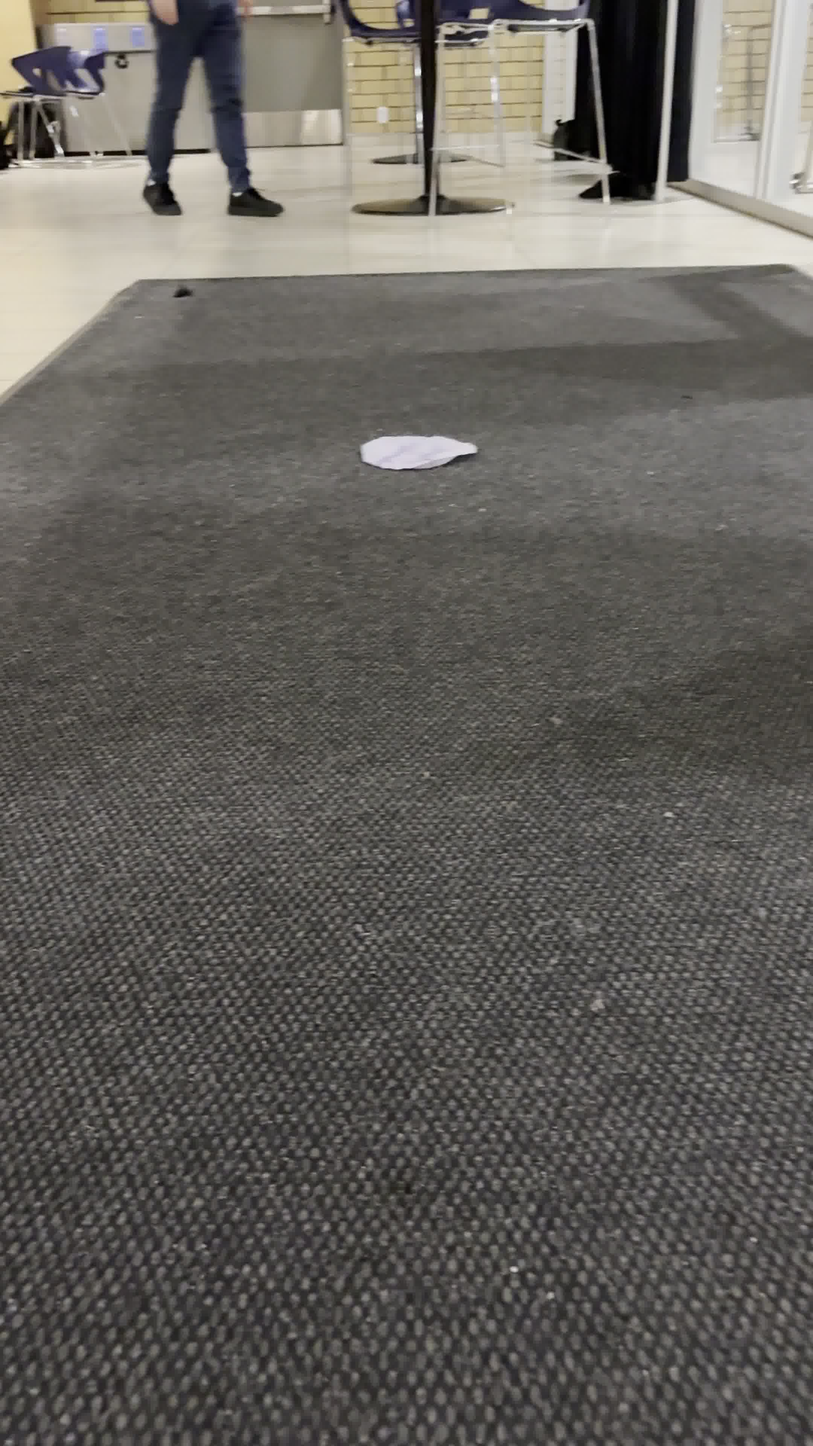Target: (355, 429, 484, 474)
